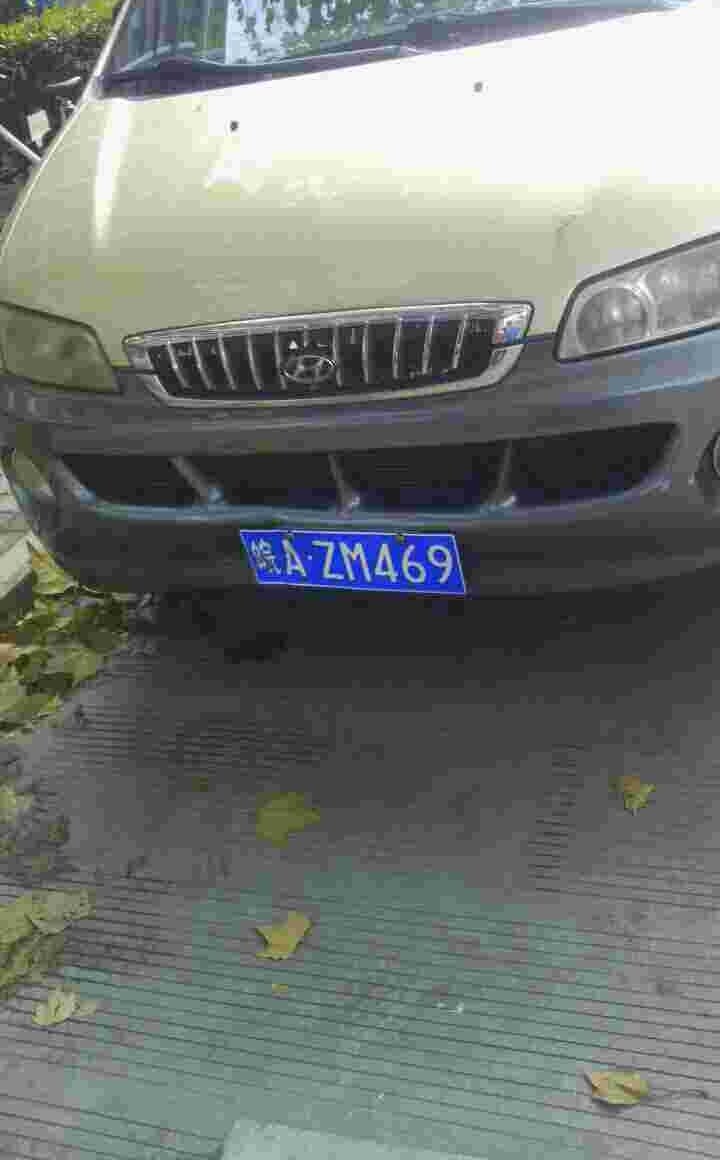license_plate: (231, 531, 477, 602)
